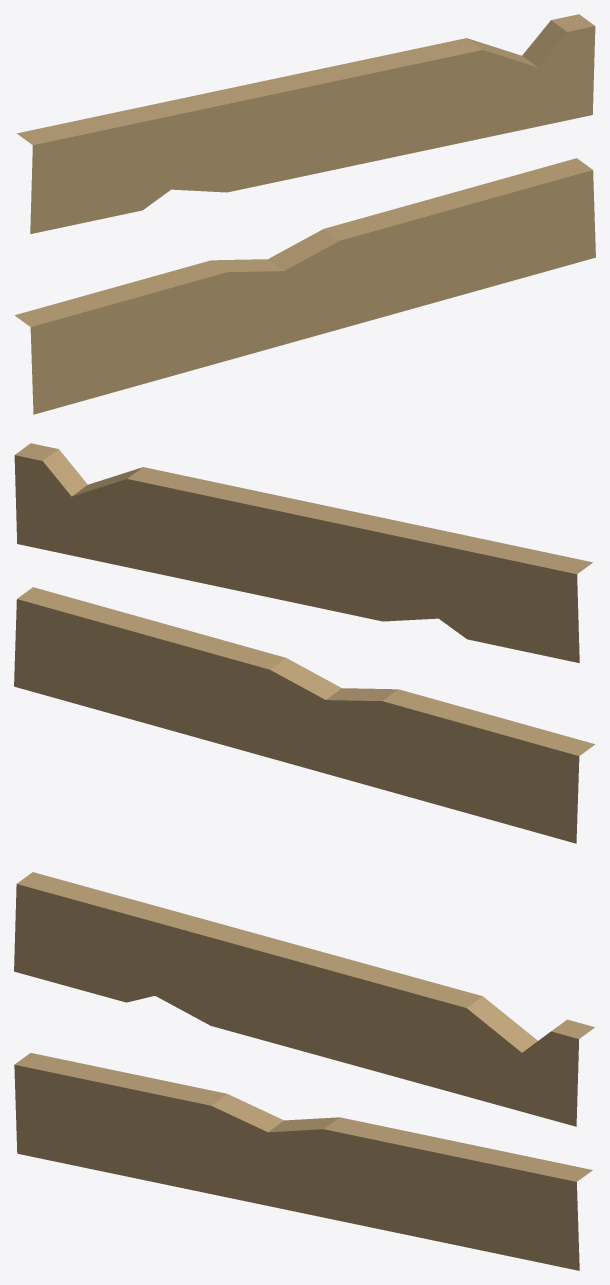
Rendered from Hilly_Prop_Fence_Boards_3.glb.
3 views of the same model, one above another, from view 1: azimuth 30°, elevation 25°; view 2: azimuth 150°, elevation 25°; view 3: azimuth 330°, elevation 25° (orthographic).
Visible parts, largest first — view 1: Hilly_Prop_Fence_Boards_3; view 2: Hilly_Prop_Fence_Boards_3; view 3: Hilly_Prop_Fence_Boards_3.
Part boxes in pixels (x1,y1,x2,y2): Hilly_Prop_Fence_Boards_3: [15, 14, 595, 414]; Hilly_Prop_Fence_Boards_3: [14, 443, 594, 843]; Hilly_Prop_Fence_Boards_3: [14, 872, 594, 1270].
Bounding box in the file's own units: 1.01 × 0.4578 × 0.05.
